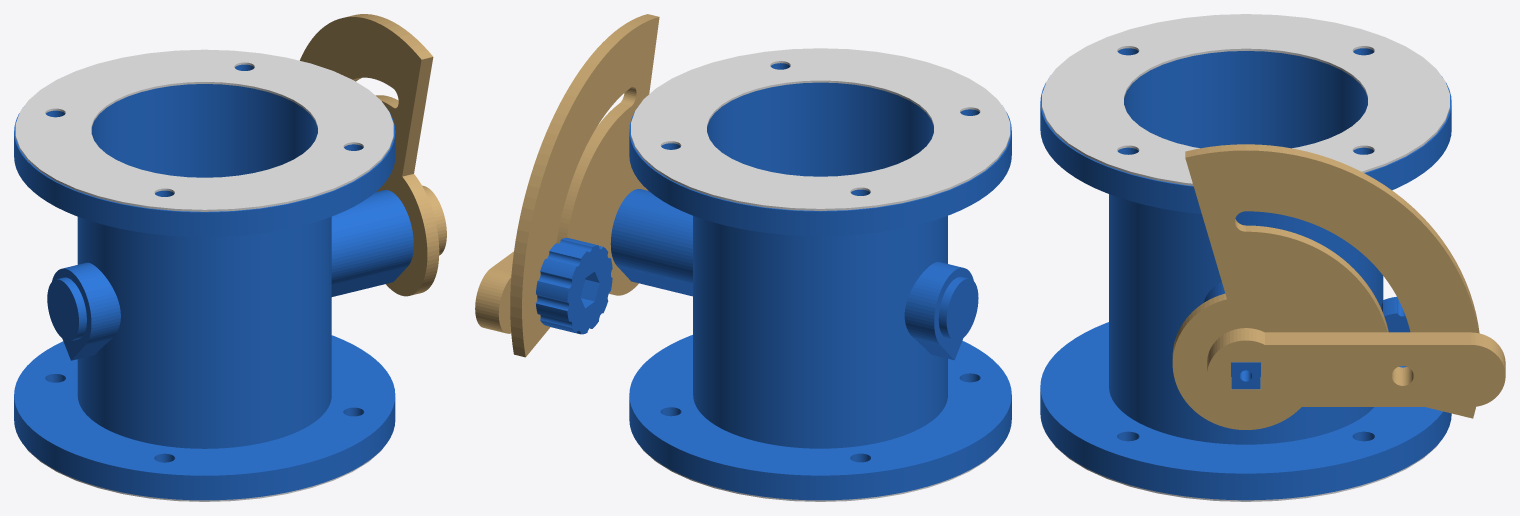
Rendered from m07_baugruppe.glb.
The picture shows the model from 3 angles, left to right: view 1: azimuth 30°, elevation 25°; view 2: azimuth 150°, elevation 25°; view 3: azimuth 270°, elevation 25°; orthographic projection. The views are drawn at different scales.
Visible parts, largest first — view 1: M07-P01_1, M07-P07_2, M07-P04_1, M07-P02_1, M07-P07_1, M07-P05_2; view 2: M07-P01_1, M07-P07_2, M07-P04_1, M07-P06_1, M07-P02_1, M07-P05_1, M07-P05_2, M07-P07_1; view 3: M07-P01_1, M07-P04_1, M07-P07_2, M07-P05_2, M07-P05_1, M07-P02_1, M07-P07_1, M07-P06_1.
Part boxes in pixels (x1,y1,x2,y2): M07-P01_1: [14, 64, 413, 500]; M07-P07_2: [15, 49, 393, 211]; M07-P04_1: [300, 14, 439, 296]; M07-P02_1: [47, 277, 86, 341]; M07-P07_1: [26, 448, 382, 501]; M07-P05_2: [422, 185, 446, 255]; M07-P01_1: [610, 63, 1011, 500]; M07-P07_2: [631, 48, 1010, 210]; M07-P04_1: [510, 14, 659, 357]; M07-P06_1: [536, 237, 612, 334]; M07-P02_1: [938, 276, 978, 340]; M07-P05_1: [487, 264, 512, 333]; M07-P05_2: [475, 251, 513, 330]; M07-P07_1: [641, 447, 999, 501]; M07-P01_1: [1040, 48, 1451, 500]; M07-P04_1: [1172, 144, 1479, 429]; M07-P07_2: [1042, 14, 1449, 185]; M07-P05_2: [1207, 334, 1505, 411]; M07-P05_1: [1207, 328, 1505, 382]; M07-P02_1: [1231, 362, 1260, 389]; M07-P07_1: [1053, 443, 1438, 501]; M07-P06_1: [1380, 296, 1410, 367].
Size of the model in its own units: 99 by 83.5 by 95.
